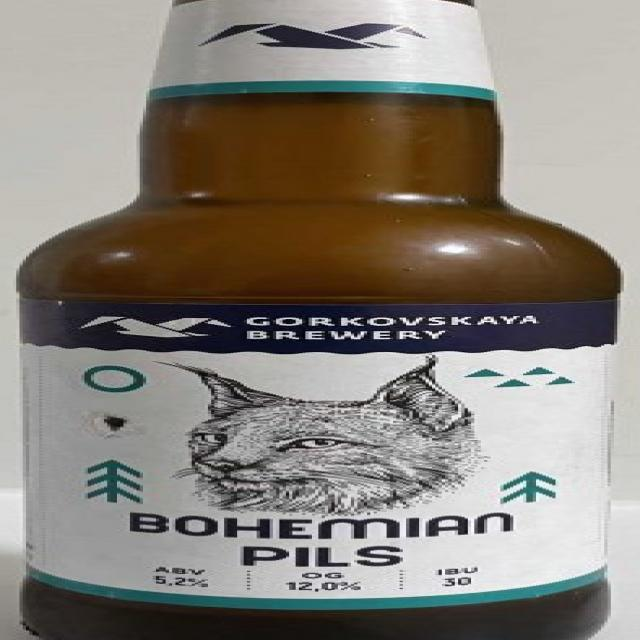Gorkovskaya Brewery Bohemian Pils: (0, 1, 640, 640)
